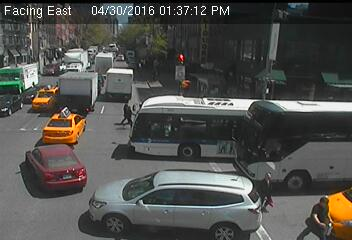neg: (159, 31, 185, 65), (49, 102, 74, 135), (300, 68, 324, 100), (130, 173, 152, 203), (173, 95, 194, 122), (245, 47, 262, 69)
pos: (303, 191, 338, 237), (249, 168, 280, 210), (116, 100, 137, 129)
